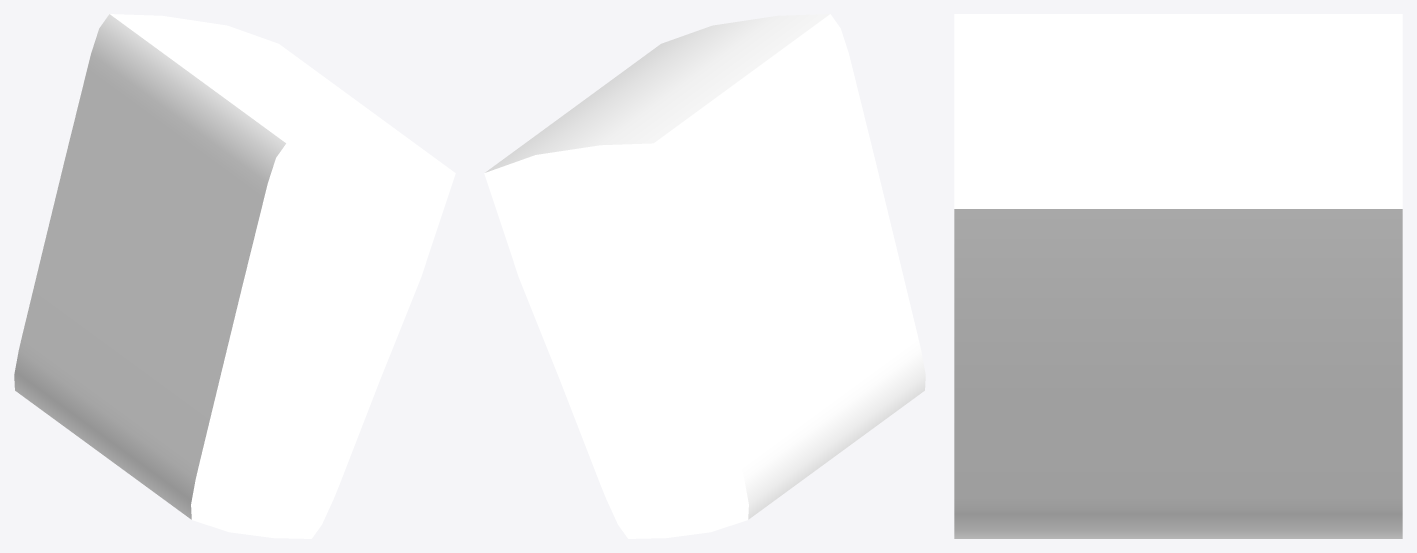
Rendered from symbol,_Zyzol_White.glb.
3 renders of one model, left to right at view 1: azimuth 30°, elevation 25°; view 2: azimuth 150°, elevation 25°; view 3: azimuth 270°, elevation 25°, orthographic. The views are drawn at different scales.
Visible parts, largest first — view 1: ,_Zyzol_White; view 2: ,_Zyzol_White; view 3: ,_Zyzol_White.
Boxes of the visible parts, left/top/right/bottom form: ,_Zyzol_White: left=14, top=14, right=455, bottom=538; ,_Zyzol_White: left=484, top=14, right=925, bottom=538; ,_Zyzol_White: left=954, top=14, right=1402, bottom=538.
Size of what is drawn, in the model's own units: 0.0389 by 0.0564 by 0.045.
Materials: 2 (2 with a texture image).
